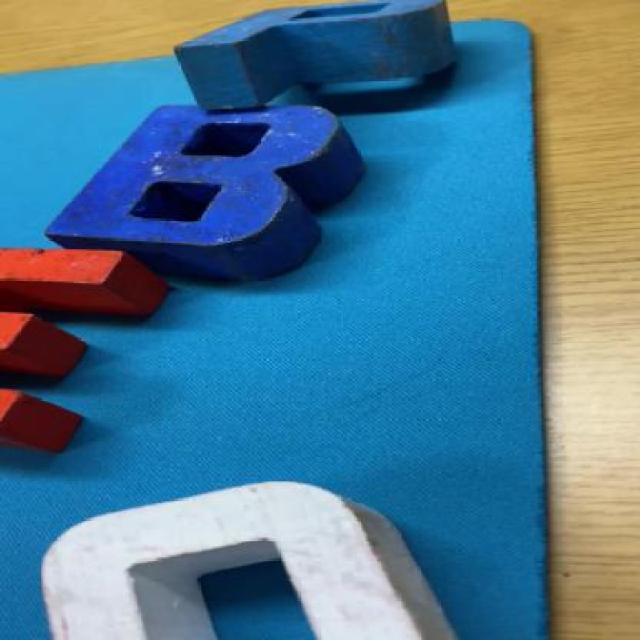B: (64, 98, 368, 282)
P: (171, 5, 477, 80)
